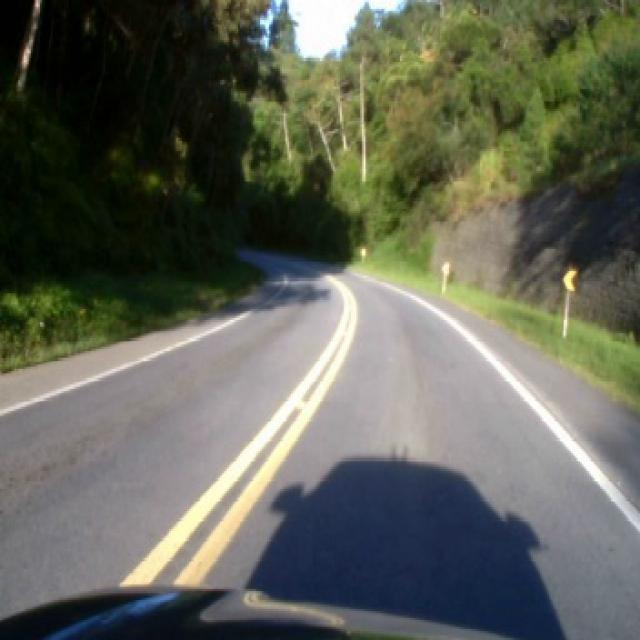Poth-hole: (292, 398, 306, 407)
